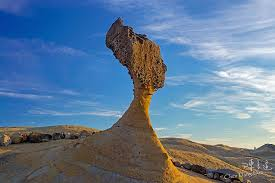yehliu: (94, 16, 181, 98)
